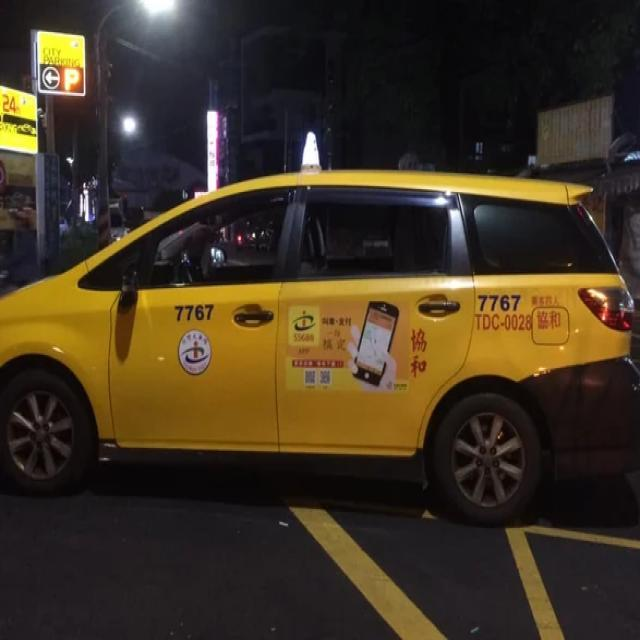Taxi: (0, 165, 640, 524)
